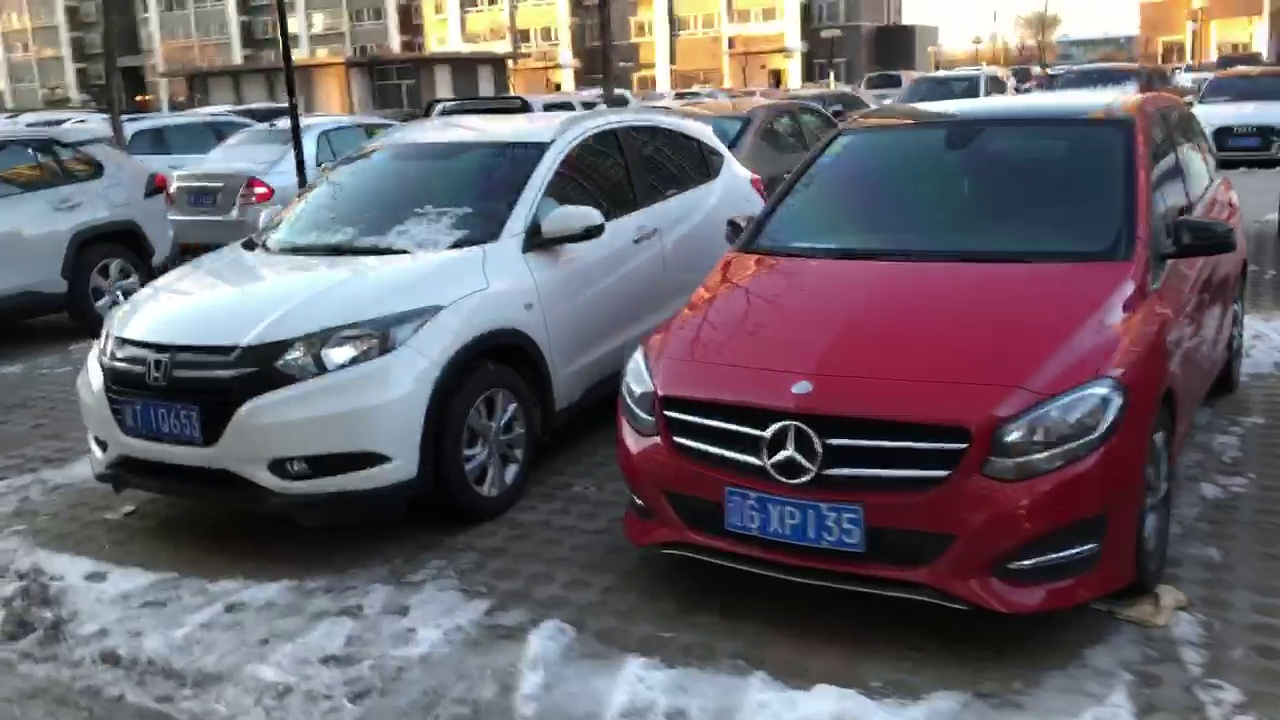plate: (718, 490, 865, 541), (120, 407, 207, 438)
